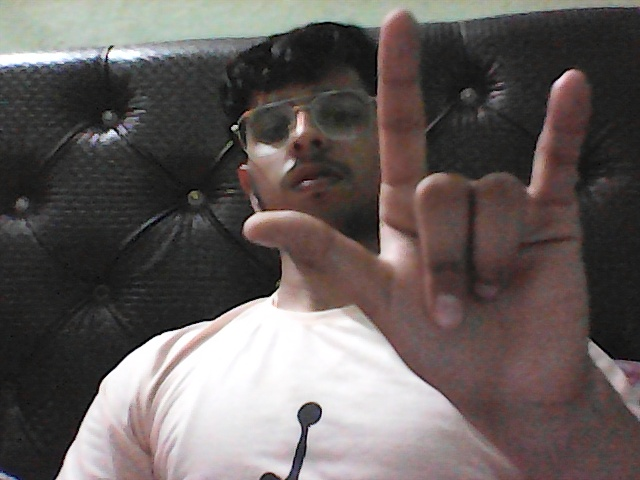iloveyou: (207, 8, 636, 436)
